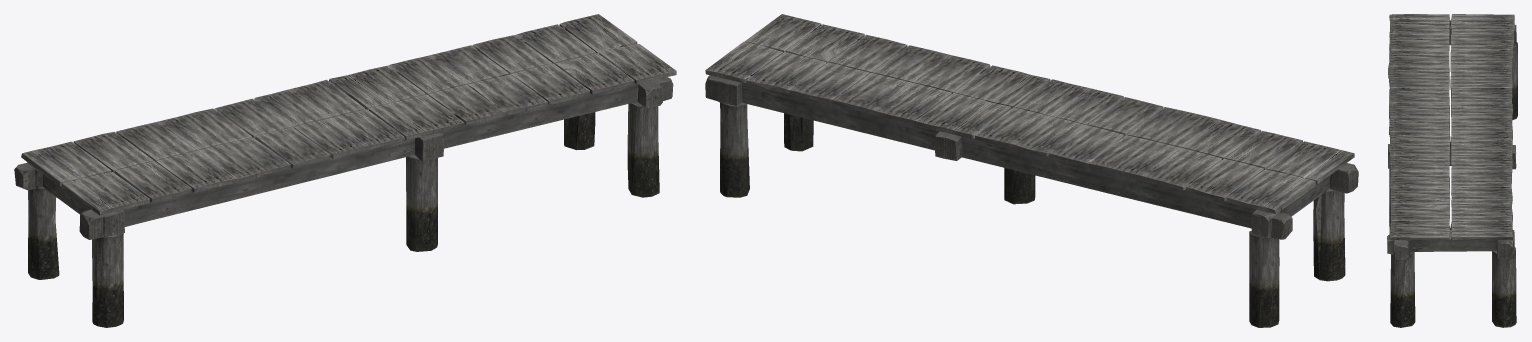
File: walkway.glb
3 renders of one model, left to right at view 1: azimuth 30°, elevation 25°; view 2: azimuth 150°, elevation 25°; view 3: azimuth 270°, elevation 25°, orthographic. The views are drawn at different scales.
Parts seen in each view (by area): view 1: output_unwrapped; view 2: output_unwrapped; view 3: output_unwrapped.
Part boxes in pixels (left/top/right/bottom): output_unwrapped: left=14, top=14, right=676, bottom=327; output_unwrapped: left=705, top=14, right=1358, bottom=327; output_unwrapped: left=1387, top=14, right=1517, bottom=327.
Size of the model in its own units: 5.2 by 1.04 by 1.27.
Materials: 1 (1 with a texture image).
